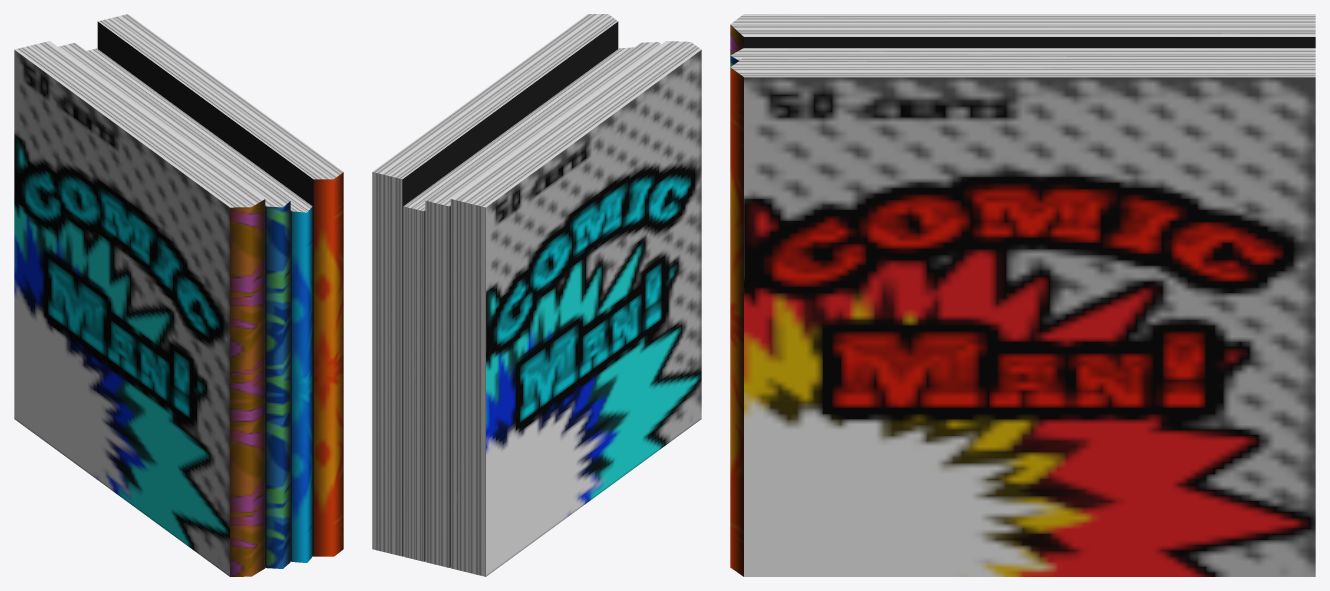
Rendered from Books_C.FBX.
3 renders of one model, left to right at view 1: azimuth 30°, elevation 25°; view 2: azimuth 150°, elevation 25°; view 3: azimuth 270°, elevation 25°, orthographic. The views are drawn at different scales.
Parts seen in each view (by area): view 1: Books_004; view 2: Books_004; view 3: Books_004.
Boxes of the visible parts, x1,y1,x2,y2 form: Books_004: (14,14,343,576); Books_004: (372,14,701,576); Books_004: (730,14,1315,576).
Bounding box in the file's own units: 16.89 × 53.51 × 56.78.
